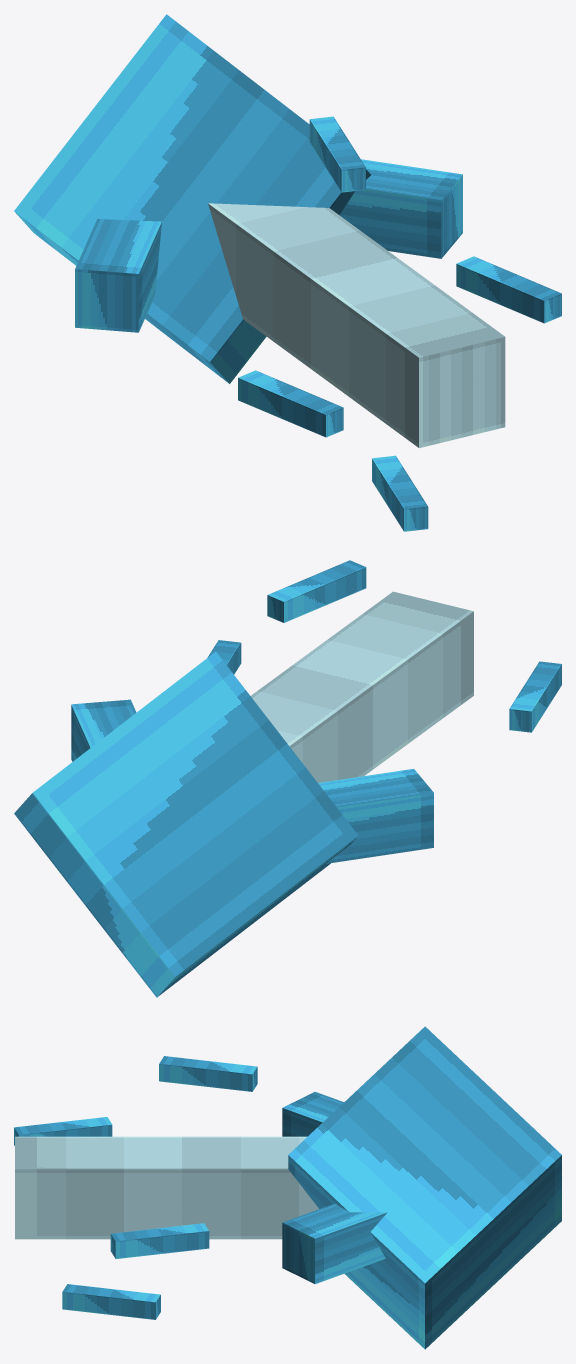
File: throne_shot_blue.gltf
3 views of the same model, one above another, from view 1: azimuth 30°, elevation 25°; view 2: azimuth 150°, elevation 25°; view 3: azimuth 270°, elevation 25° (orthographic). The views are drawn at different scales.
Visible parts, largest first — view 1: core_mesh; view 2: core_mesh; view 3: core_mesh.
Boxes of the visible parts, box(x1,y1,x2,y2) form: core_mesh: box(14, 14, 561, 531); core_mesh: box(14, 560, 561, 997); core_mesh: box(14, 1026, 561, 1349).
Size of the model in its own units: 0.674 by 0.6402 by 1.06.
1 material, 1 textured.
